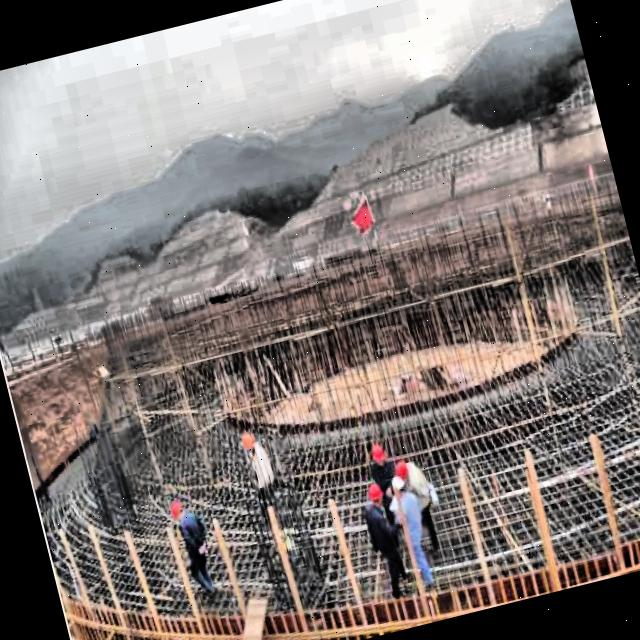helmet: (162, 494, 198, 530), (366, 438, 394, 472), (384, 470, 412, 504), (364, 482, 389, 514), (234, 428, 260, 457), (391, 456, 416, 486)
